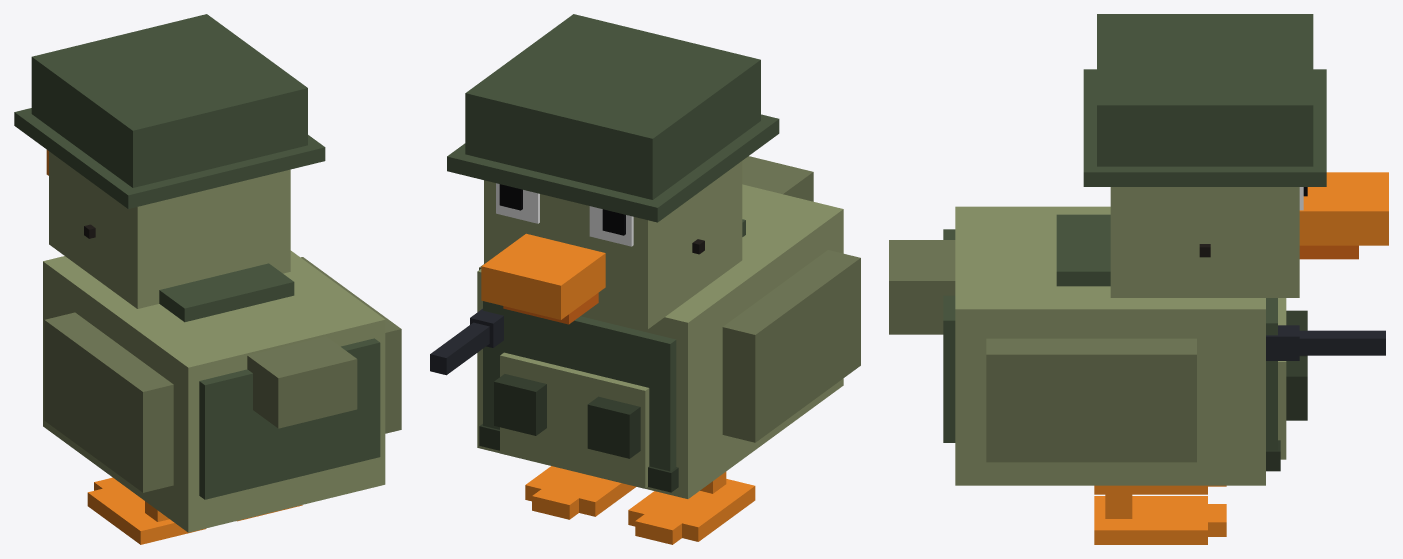
File: duck_soldier.glb
3 renders of one model, left to right at view 1: azimuth 30°, elevation 25°; view 2: azimuth 150°, elevation 25°; view 3: azimuth 270°, elevation 25°, orthographic. The views are drawn at different scales.
Visible parts, largest first — view 1: Helmet, Body, Head, Vest, WingL, FootL, WingR; view 2: Helmet, Body, Head, Vest, WingL, FootL, FootR, Gun; view 3: Body, Helmet, Head, WingR, Vest, FootR, Gun, FootL.
Part boxes in pixels (x1,y1,x2,y2): Helmet: (14, 14, 325, 238); Body: (43, 250, 385, 532); Head: (46, 150, 290, 308); Vest: (159, 263, 380, 499); WingL: (44, 312, 173, 492); FootL: (87, 477, 206, 544); WingR: (301, 257, 401, 433); Helmet: (447, 14, 779, 254); Body: (477, 156, 843, 498); Head: (481, 161, 742, 329); Vest: (479, 219, 745, 492); WingL: (722, 250, 860, 442); FootL: (628, 471, 755, 544); FootR: (525, 466, 636, 519); Gun: (430, 308, 503, 375); Body: (889, 206, 1286, 485); Helmet: (1083, 14, 1326, 257); Head: (1110, 172, 1388, 297); WingR: (986, 338, 1196, 462); Vest: (943, 214, 1307, 471); FootR: (1094, 485, 1226, 544); Gun: (1266, 325, 1385, 360); FootL: (1094, 485, 1226, 494).
Size of the model in its own units: 1.18 by 1.81 by 1.85.
